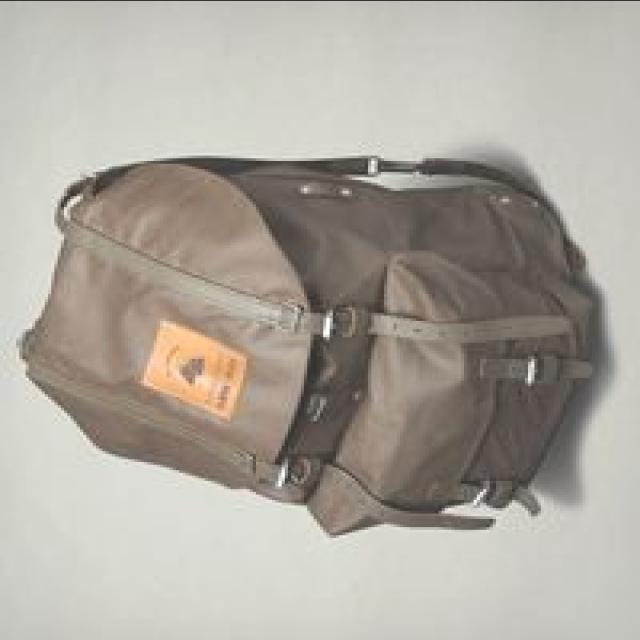backpack: (17, 156, 596, 541)
